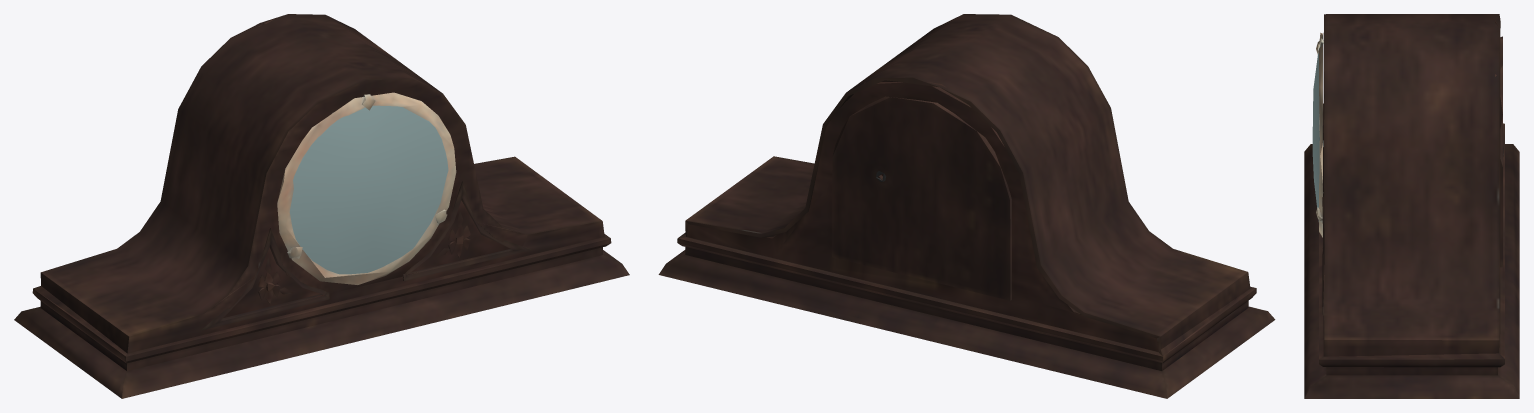
File: mantel_clock_01.fbx
3 renders of one model, left to right at view 1: azimuth 30°, elevation 25°; view 2: azimuth 150°, elevation 25°; view 3: azimuth 270°, elevation 25°, orthographic.
Visible parts, largest first — view 1: mantel_clock_01; view 2: mantel_clock_01; view 3: mantel_clock_01.
Part boxes in pixels (bbox=[...]): mantel_clock_01: bbox=[14, 14, 629, 398]; mantel_clock_01: bbox=[658, 14, 1275, 398]; mantel_clock_01: bbox=[1304, 14, 1519, 398].
Bounding box in the file's own units: 0.3422 × 0.1608 × 0.1261.
